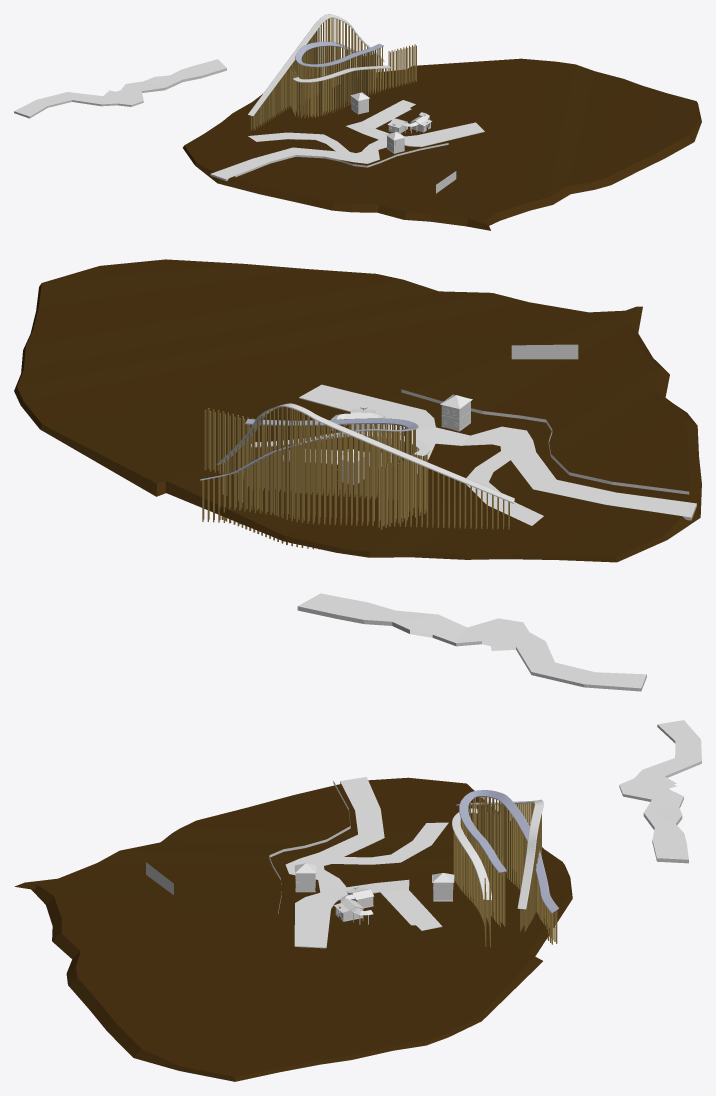
File: CedarPointFinal_WhiteBoxImport.fbx
3 renders of one model, top to bottom at view 1: azimuth 30°, elevation 25°; view 2: azimuth 150°, elevation 25°; view 3: azimuth 270°, elevation 25°, orthographic. The views are drawn at different scales.
Visible parts, largest first — view 1: Plane.002, Plane.006, Cube.010, Cube.000, Cube.001, Cube.012, Cube.003, BezierCurve.018, BezierCurve.017, Cube.011, BezierCurve.016; view 2: Plane.002, Plane.006, Cube.003, Cube.001, Cube.010, Cube.012, Cube.000, Cube.011, BezierCurve.018, BezierCurve.017; view 3: Plane.002, Plane.006, Cube.010, Cube.012, Cube.001, Cube.000, BezierCurve.017, Cube.003, BezierCurve.018, BezierCurve.016, Cube.011.
Boxes of the visible parts, x1,y1,x2,y2 form: Plane.002: (408,58,701,228); Plane.006: (183,68,490,230); Cube.010: (210,100,484,180); Cube.000: (290,44,416,118); Cube.001: (297,46,382,115); Cube.012: (14,59,226,118); Cube.003: (250,18,381,130); BezierCurve.018: (248,14,384,116); BezierCurve.017: (295,41,383,67); Cube.011: (235,143,456,193); BezierCurve.016: (293,65,390,82); Plane.002: (14,259,641,496); Plane.006: (163,306,701,562); Cube.003: (221,407,509,549); Cube.001: (202,424,415,524); Cube.010: (283,384,696,525); Cube.012: (297,593,646,691); Cube.000: (204,408,427,529); Cube.011: (401,344,689,494); BezierCurve.018: (216,403,514,503); BezierCurve.017: (200,418,418,480); Plane.002: (31,883,542,1081); Plane.006: (14,777,572,956); Cube.010: (285,777,448,948); Cube.012: (619,720,701,863); Cube.001: (460,796,557,944); Cube.000: (453,810,512,947); BezierCurve.017: (459,790,558,912); Cube.003: (459,802,541,931); BezierCurve.018: (456,799,543,909); BezierCurve.016: (452,808,491,900); Cube.011: (146,781,350,914).
Size of what is drawn, in the model's own units: 57924 by 8933 by 47036.
